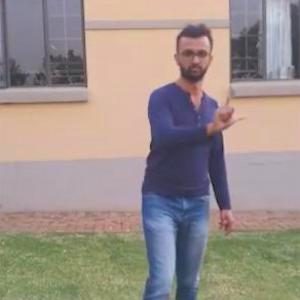land_hand: (205, 84, 250, 137)
